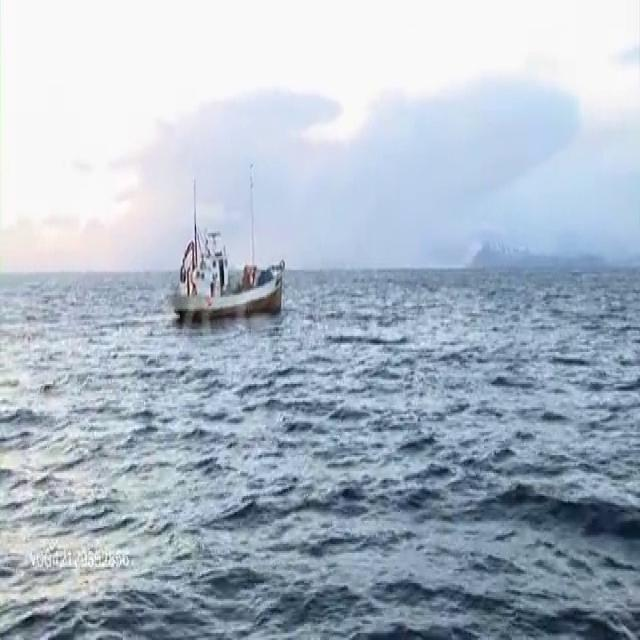fishing boat: (169, 180, 287, 317)
